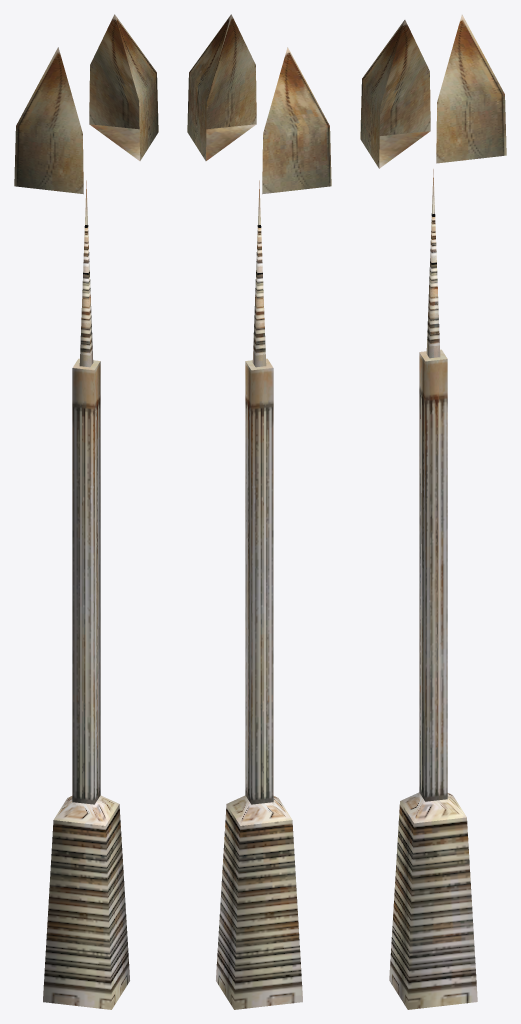
File: eqp_tool_sensor_beacon_l3.fbx
3 renders of one model, left to right at view 1: azimuth 30°, elevation 25°; view 2: azimuth 150°, elevation 25°; view 3: azimuth 330°, elevation 25°, orthographic.
Visible parts, largest first — view 1: mesh_node; view 2: mesh_node; view 3: mesh_node.
Part boxes in pixels (left/top/right/bottom): mesh_node: left=14, top=14, right=158, bottom=1009; mesh_node: left=187, top=14, right=331, bottom=1009; mesh_node: left=360, top=14, right=506, bottom=1009.
Size of the model in its own units: 0.4054 by 2.6 by 0.2475.
Materials: 1 (1 with a texture image).
